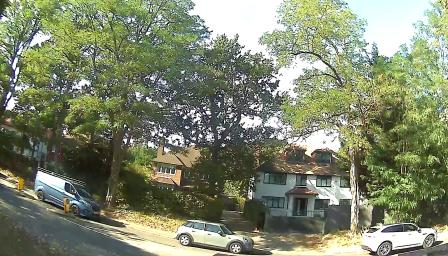Cars: (36, 167, 103, 225), (177, 220, 256, 254), (362, 224, 437, 254)
